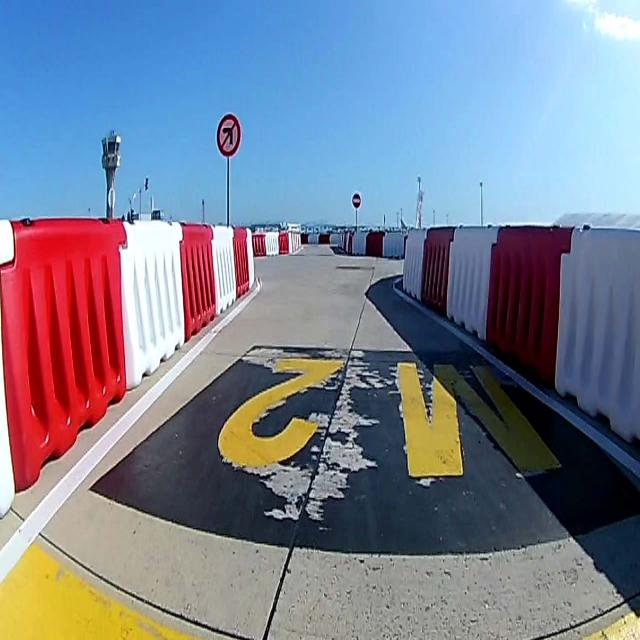girisyok: (352, 193, 361, 209)
soladonulmez: (216, 113, 240, 157)
